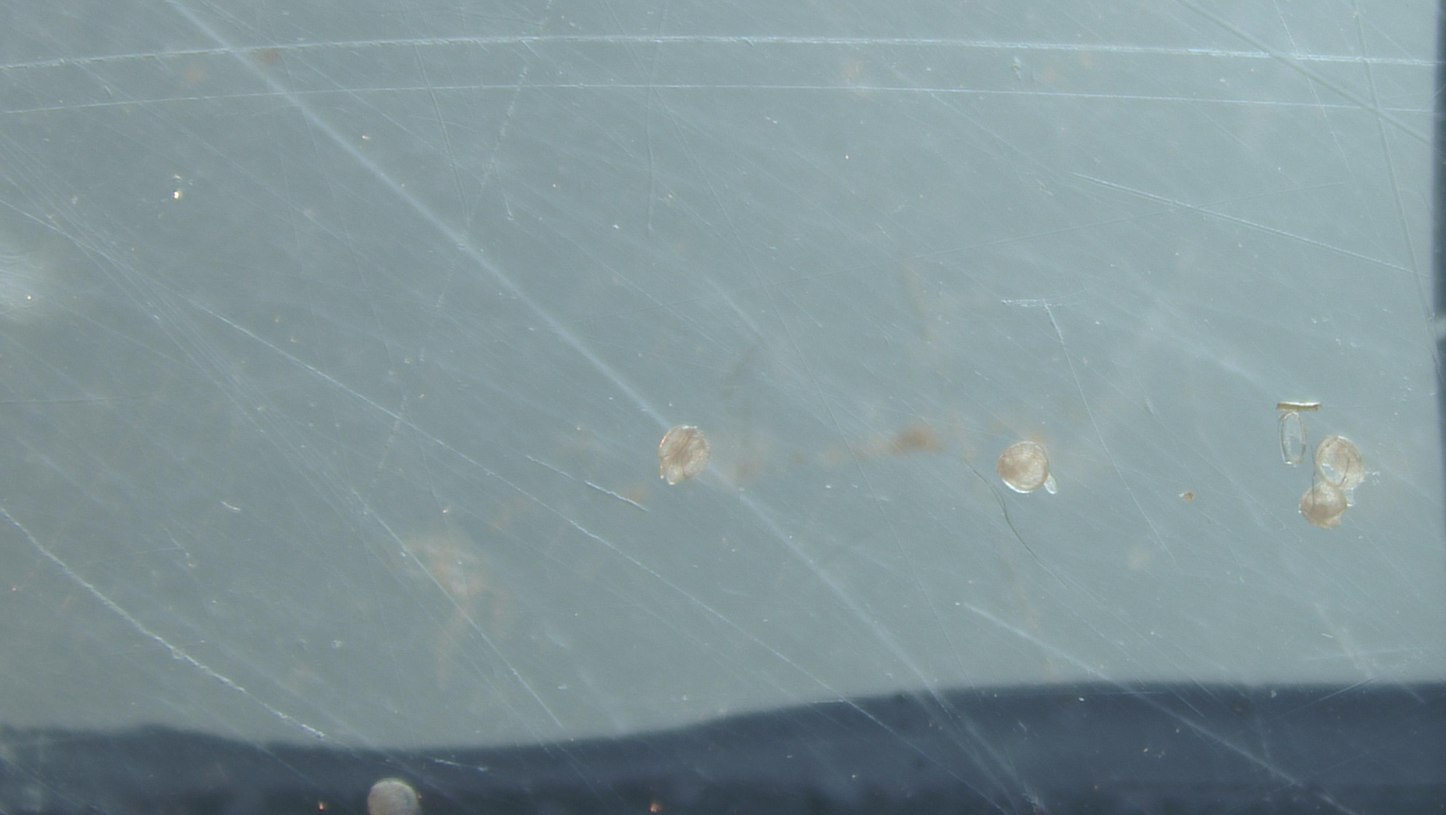live: (996, 441, 1057, 495), (657, 425, 709, 485), (1298, 472, 1350, 528), (1314, 436, 1365, 492), (367, 778, 422, 815)
